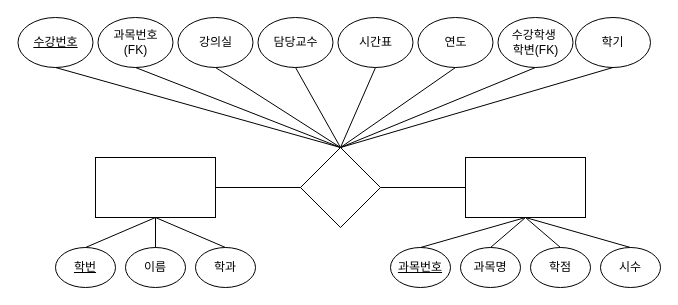
Some shapes in this 678 by 305 pixel diagram are drawn without their labels. Each missing label, with the centre of its shape:
"과목" belongs at [525,187].
"대학생" belongs at [155,187].
"수강" belongs at [340,187].
